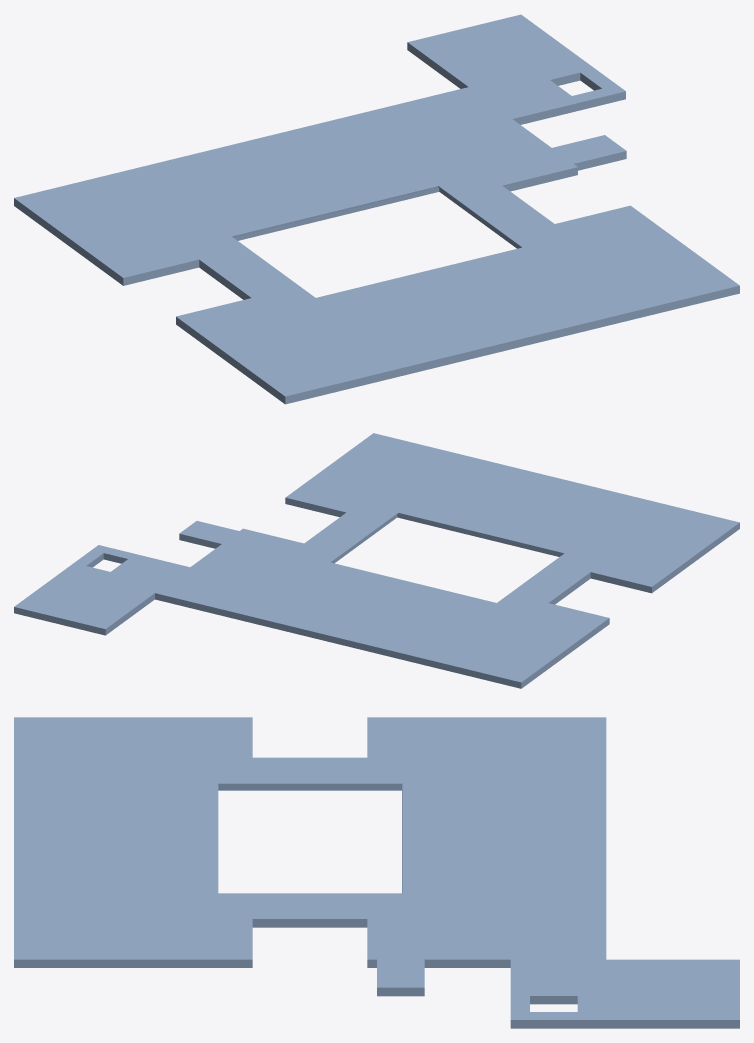
File: SM_Floor1_tops.fbx
The picture shows the model from 3 angles, top to bottom: view 1: azimuth 30°, elevation 25°; view 2: azimuth 150°, elevation 25°; view 3: azimuth 270°, elevation 25°; orthographic projection. The views are drawn at different scales.
Parts seen in each view (by area): view 1: Ignacios_Room, polySurface15, polySurface29, polySurface1, Hallway38, Hallway33, Hallway30, Hallway32, Hallway31, Hallway26, Hallway28, Treim_floorbalcomy (+1 smaller); view 2: polySurface29, polySurface1, Ignacios_Room, polySurface15, Hallway38, Hallway31, Hallway30, Hallway32, Hallway33, Hallway28, Hallway26, Treim_floorbalcomy (+1 smaller); view 3: polySurface15, polySurface1, polySurface29, Ignacios_Room, Hallway38, Hallway30, Hallway32, Hallway31, Hallway33, Hallway26, Hallway28, Treim_floorbalcomy (+1 smaller).
Boxes of the visible parts, left/top/right/bottom form: Ignacios_Room: left=176, top=298, right=482, bottom=404; polySurface15: left=478, top=205, right=739, bottom=341; polySurface29: left=14, top=150, right=275, bottom=285; polySurface1: left=272, top=87, right=577, bottom=191; Hallway38: left=407, top=14, right=625, bottom=124; Hallway33: left=201, top=165, right=439, bottom=240; Hallway30: left=155, top=216, right=340, bottom=329; Hallway32: left=413, top=153, right=597, bottom=266; Hallway31: left=315, top=248, right=552, bottom=318; Hallway26: left=417, top=285, right=542, bottom=356; Hallway28: left=211, top=135, right=336, bottom=197; Treim_floorbalcomy: left=227, top=184, right=526, bottom=299; polySurface29: left=362, top=603, right=609, bottom=688; polySurface1: left=155, top=528, right=366, bottom=637; Ignacios_Room: left=528, top=483, right=739, bottom=593; polySurface15: left=285, top=433, right=531, bottom=517; Hallway38: left=14, top=545, right=189, bottom=635; Hallway31: left=397, top=495, right=588, bottom=556; Hallway30: left=477, top=537, right=625, bottom=628; Hallway32: left=269, top=487, right=417, bottom=577; Hallway33: left=306, top=563, right=497, bottom=619; Hallway28: left=313, top=593, right=414, bottom=649; Hallway26: left=480, top=472, right=580, bottom=522; Treim_floorbalcomy: left=327, top=511, right=567, bottom=604; polySurface15: left=14, top=854, right=252, bottom=967; polySurface1: left=367, top=854, right=606, bottom=967; polySurface29: left=367, top=717, right=606, bottom=822; Ignacios_Room: left=14, top=717, right=252, bottom=822; Hallway38: left=510, top=959, right=739, bottom=1028; Hallway30: left=157, top=757, right=462, bottom=790; Hallway32: left=157, top=895, right=462, bottom=927; Hallway31: left=157, top=782, right=214, bottom=894; Hallway33: left=405, top=782, right=462, bottom=894; Hallway26: left=14, top=822, right=157, bottom=854; Hallway28: left=463, top=822, right=606, bottom=854; Treim_floorbalcomy: left=214, top=782, right=405, bottom=894.
Size of the model in its own units: 3750 by 50 by 3800.
